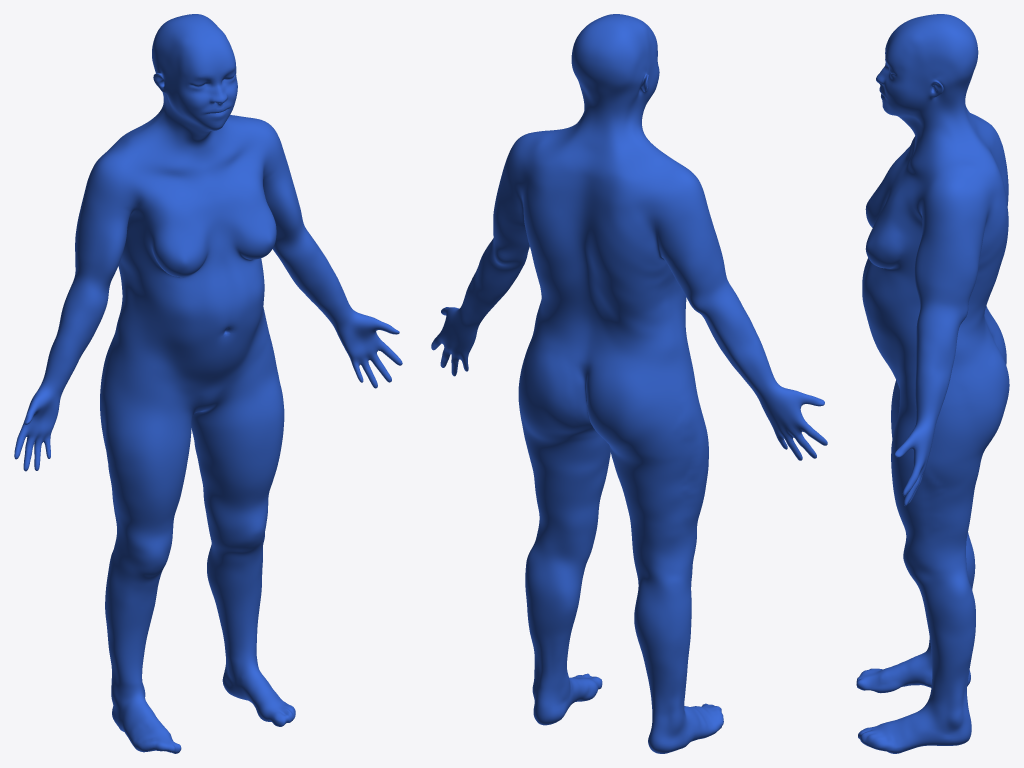
The model's file is VH_F_Skin.glb.
The picture shows the model from 3 angles, left to right: view 1: azimuth 30°, elevation 25°; view 2: azimuth 150°, elevation 25°; view 3: azimuth 270°, elevation 25°; orthographic projection. The views are drawn at different scales.
Visible parts, largest first — view 1: VH_F_skin; view 2: VH_F_skin; view 3: VH_F_skin.
Boxes of the visible parts, x1,y1,x2,y2 form: VH_F_skin: [14, 14, 402, 753]; VH_F_skin: [431, 14, 827, 753]; VH_F_skin: [856, 14, 1009, 753].
Size of the model in its own units: 0.967 by 1.67 by 0.3291.
